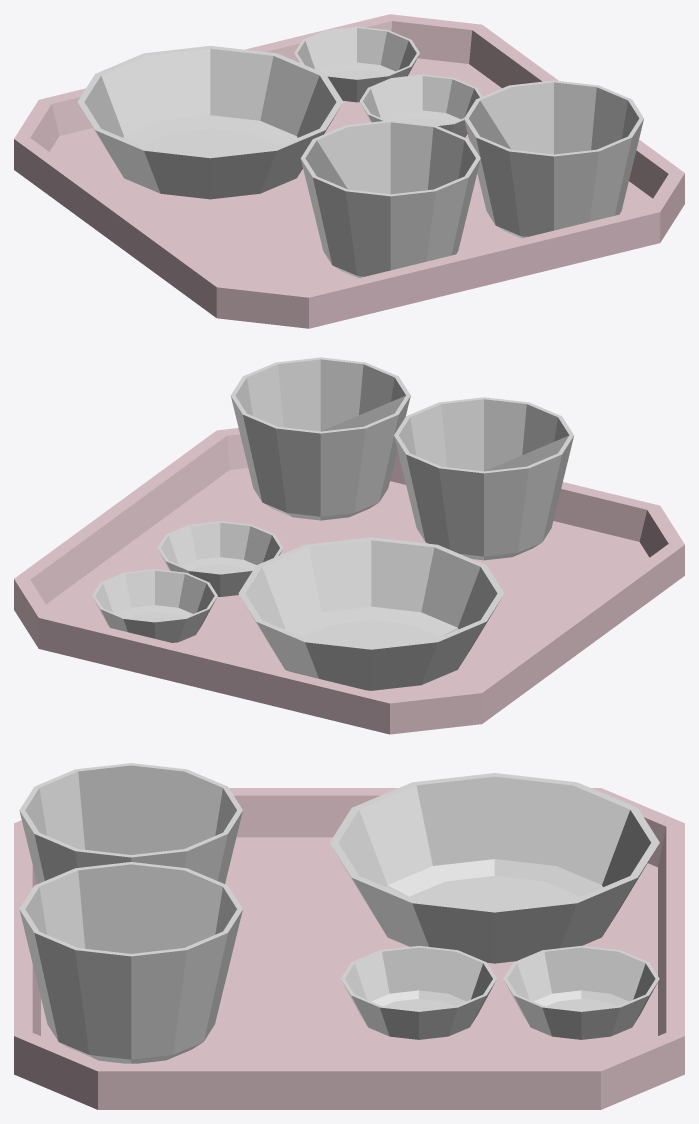
The model's file is Bowls.fbx.
The picture shows the model from 3 angles, top to bottom: view 1: azimuth 30°, elevation 25°; view 2: azimuth 150°, elevation 25°; view 3: azimuth 270°, elevation 25°; orthographic projection. The views are drawn at different scales.
Parts seen in each view (by area): view 1: dish1.007; view 2: dish1.007; view 3: dish1.007.
Part boxes in pixels (x1=…): dish1.007: x1=14, y1=14, x2=684, y2=328; dish1.007: x1=14, y1=357, x2=684, y2=734; dish1.007: x1=14, y1=763, x2=684, y2=1109.
Size of the model in its own units: 150 by 31.98 by 150.
